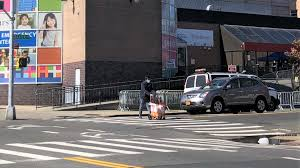mask: (142, 73, 151, 84)
